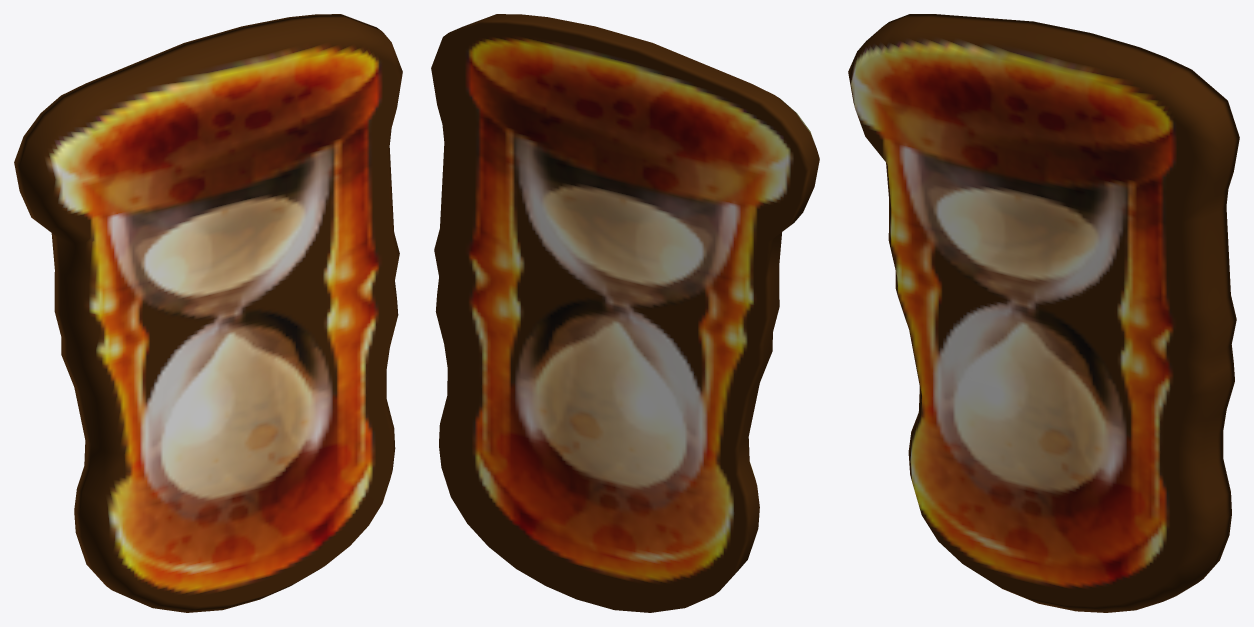
File: 3D_HourGlass.fbx
The picture shows the model from 3 angles, left to right: view 1: azimuth 30°, elevation 25°; view 2: azimuth 150°, elevation 25°; view 3: azimuth 330°, elevation 25°; orthographic projection.
Visible parts, largest first — view 1: Icon1; view 2: Icon1; view 3: Icon1.
Boxes of the visible parts, x1,y1,x2,y2 form: Icon1: [14, 14, 402, 612]; Icon1: [431, 14, 819, 612]; Icon1: [848, 14, 1239, 612].
Size of the model in its own units: 5.27 by 7.6 by 0.6886.
